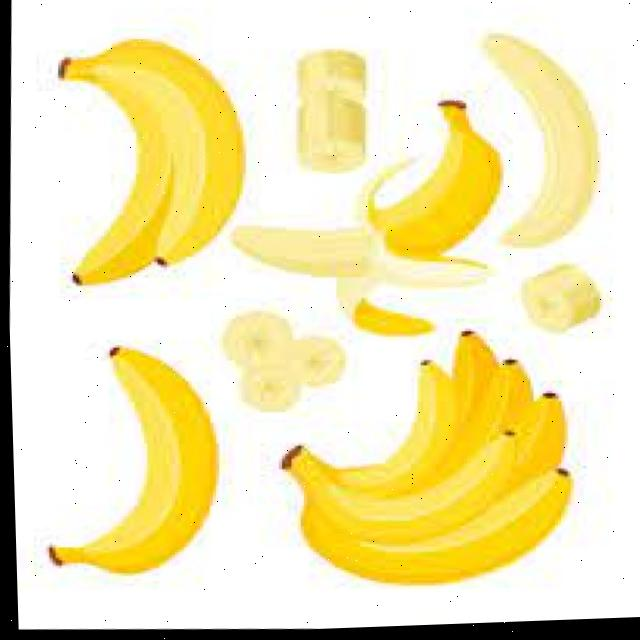Banana: (287, 402, 559, 544), (46, 347, 212, 572), (300, 472, 565, 584)
